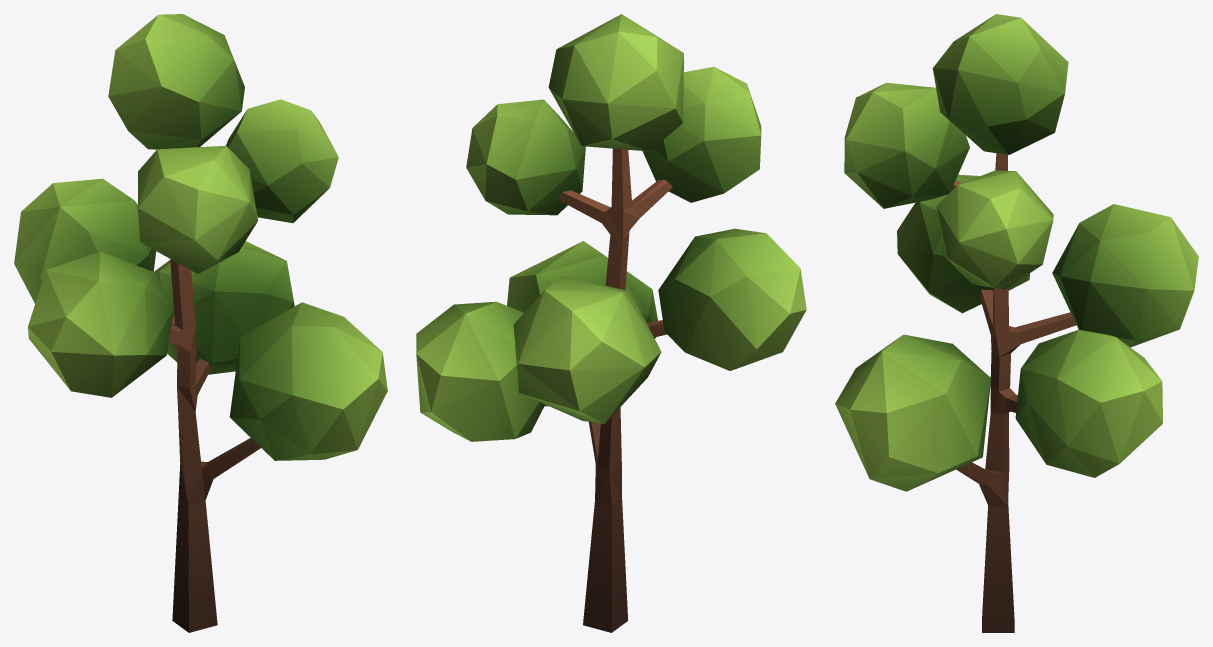
The model's file is VEG0210035.fbx.
3 renders of one model, left to right at view 1: azimuth 30°, elevation 25°; view 2: azimuth 150°, elevation 25°; view 3: azimuth 270°, elevation 25°, orthographic.
Visible parts, largest first — view 1: smVEG0210035; view 2: smVEG0210035; view 3: smVEG0210035.
Boxes of the visible parts, <box> form: smVEG0210035: <box>14,14,387,632</box>; smVEG0210035: <box>416,14,806,632</box>; smVEG0210035: <box>835,14,1198,632</box>.
Size of the model in its own units: 296 by 548 by 302.
Materials: 1 (1 with a texture image).
